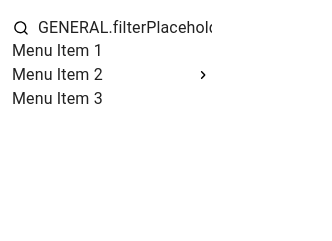
Test: CNestedMenu Component › Internal Functions - flattenMenuItems › should flatten nested menu items correctly
Type "Sub Item" into the field with placeholder "GENERAL.filterPlaceholder".
click(125, 28); type("Sub Item")  # box [38,16,212,39]
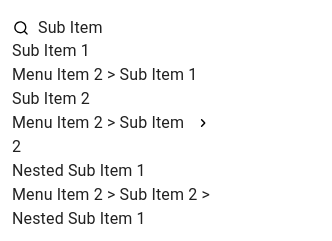
Now the text "Sub Item 1" is shown, box [12,41,90,60]
Now the text "Sub Item 2" is shown, box [12,89,90,108]
